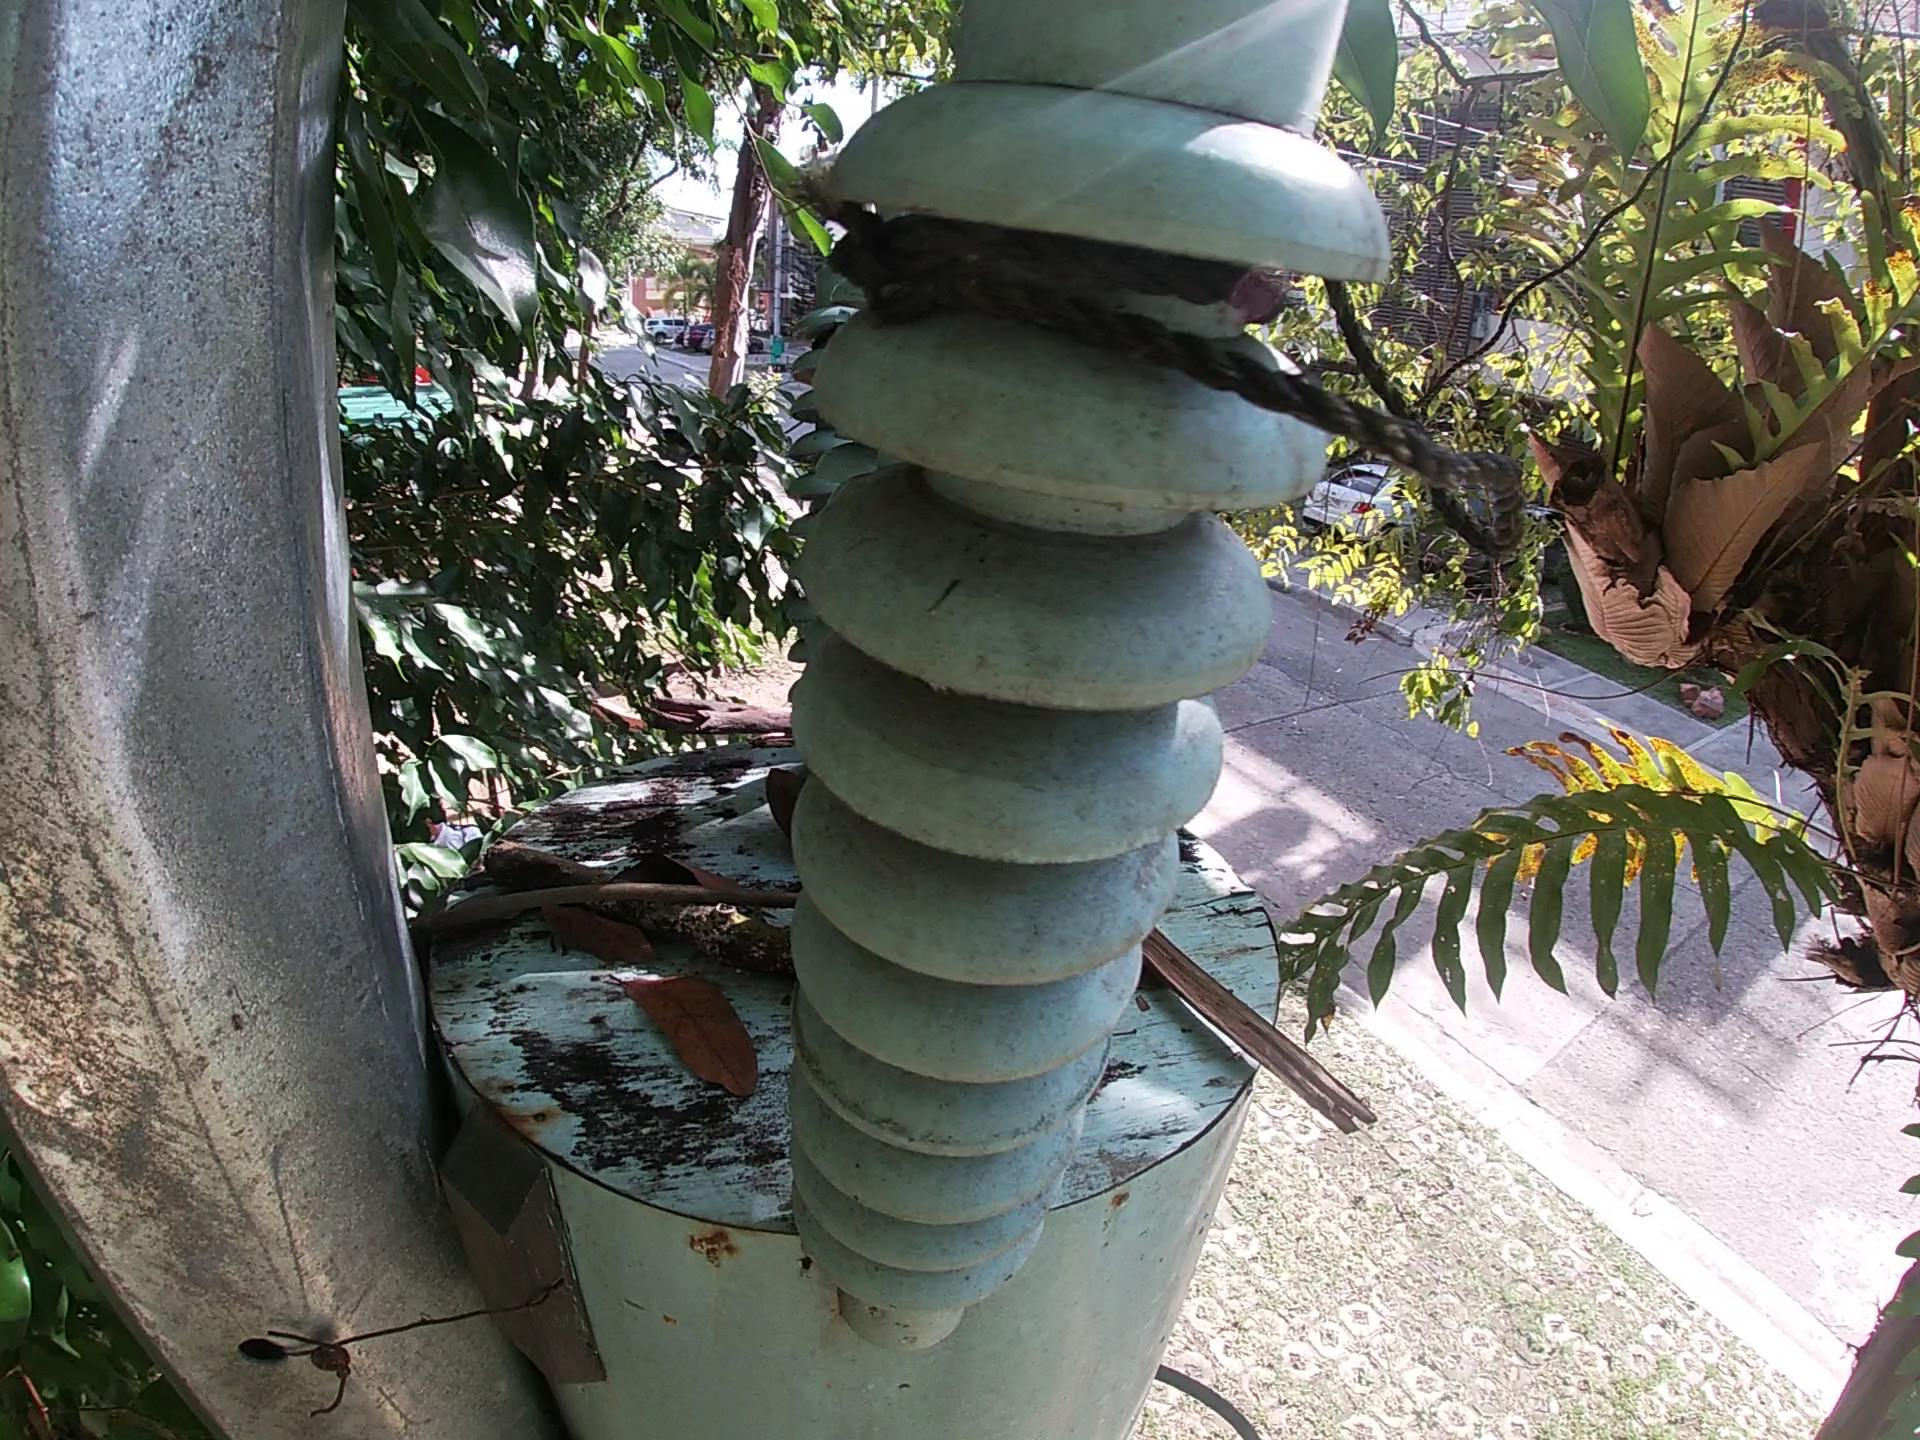leaf: (611, 965, 765, 1100), (541, 900, 664, 965), (602, 853, 735, 888)
mahogany fruit: (766, 765, 807, 838)
tree branch: (1138, 924, 1379, 1145), (484, 839, 798, 982), (407, 880, 801, 938), (644, 691, 794, 753)
